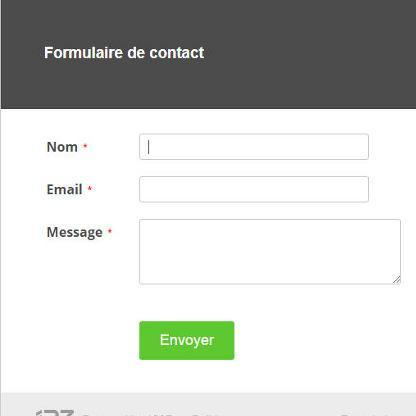button: (137, 319, 238, 362)
field: (136, 217, 403, 286), (136, 174, 371, 204), (137, 132, 371, 161)
